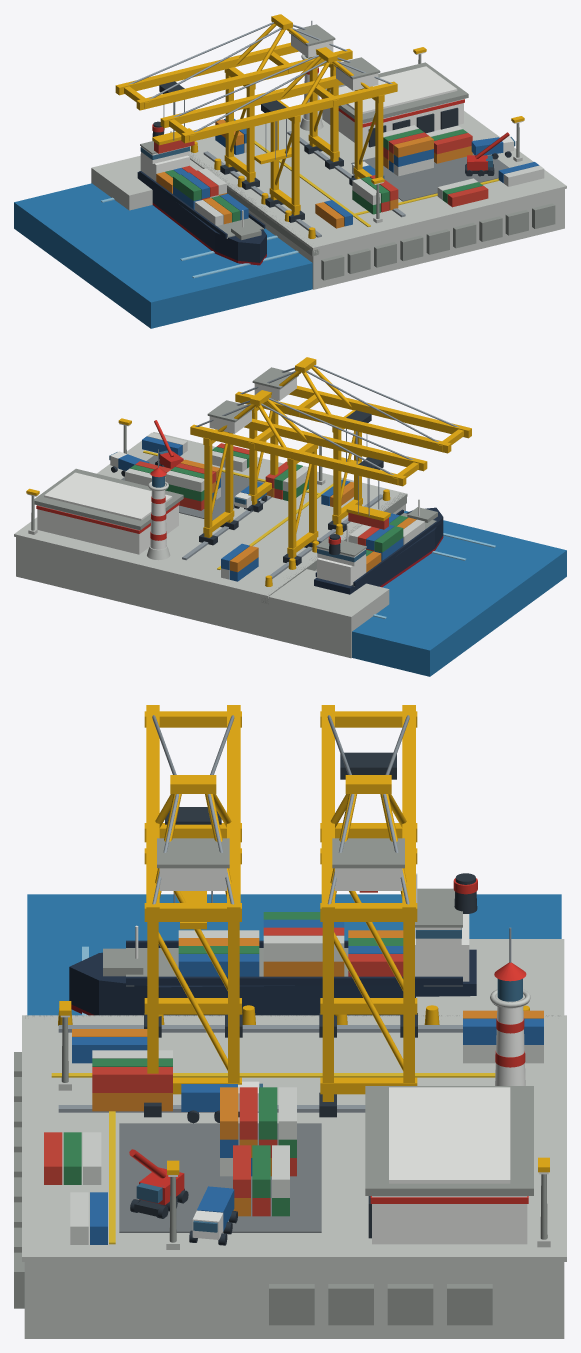
The model's file is seaport.glb.
The picture shows the model from 3 angles, top to bottom: view 1: azimuth 30°, elevation 25°; view 2: azimuth 150°, elevation 25°; view 3: azimuth 270°, elevation 25°; orthographic projection. The views are drawn at different scales.
Visible parts, largest first — view 1: water_block, quay_deck, quay_slab, hull_upper, gantry_crane_b_boom_0.3, yard_pad, quay_apron_back, warehouse_roof_ridge, gantry_crane_a_boom_0.3, gantry_crane_a_boom_-0.3, gantry_crane_b_boom_-0.3, warehouse_roof (+40 smaller); view 2: water_block, quay_deck, quay_apron_back, quay_slab, warehouse_roof_ridge, warehouse_body, gantry_crane_a_boom_-0.3, gantry_crane_b_boom_-0.3, hull_upper, warehouse_roof, gantry_crane_a_boom_0.3, gantry_crane_b_boom_0.3 (+23 smaller); view 3: quay_deck, quay_slab, water_block, yard_pad, warehouse_roof_ridge, hull_upper, warehouse_roof, warehouse_body, quay_apron_back, gantry_crane_a_boom_0.3, gantry_crane_b_boom_-0.3, gantry_crane_b_boom_0.3 (+61 smaller).
Part boxes in pixels (bbox=[...]): water_block: bbox=[14, 183, 312, 328]; quay_deck: bbox=[188, 111, 566, 250]; quay_slab: bbox=[248, 189, 564, 289]; hull_upper: bbox=[137, 172, 266, 262]; gantry_crane_b_boom_0.3: bbox=[181, 81, 397, 143]; yard_pad: bbox=[351, 153, 509, 201]; quay_apron_back: bbox=[91, 155, 202, 210]; warehouse_roof_ridge: bbox=[329, 66, 457, 113]; gantry_crane_a_boom_0.3: bbox=[136, 49, 352, 110]; gantry_crane_a_boom_-0.3: bbox=[115, 42, 298, 95]; gantry_crane_b_boom_-0.3: bbox=[160, 75, 343, 128]; warehouse_roof: bbox=[325, 62, 468, 123]; water_block: bbox=[352, 511, 566, 676]; quay_deck: bbox=[14, 432, 407, 598]; quay_apron_back: bbox=[207, 569, 389, 658]; quay_slab: bbox=[16, 504, 405, 637]; warehouse_roof_ridge: bbox=[44, 472, 172, 520]; warehouse_body: bbox=[37, 505, 178, 554]; gantry_crane_a_boom_-0.3: bbox=[190, 424, 406, 486]; gantry_crane_b_boom_-0.3: bbox=[235, 391, 451, 453]; hull_upper: bbox=[314, 507, 443, 594]; warehouse_roof: bbox=[34, 468, 183, 530]; gantry_crane_a_boom_0.3: bbox=[244, 418, 427, 471]; gantry_crane_b_boom_0.3: bbox=[289, 385, 471, 438]; quay_deck: bbox=[22, 1015, 566, 1261]; quay_slab: bbox=[24, 1262, 564, 1338]; water_block: bbox=[27, 894, 561, 1015]; yard_pad: bbox=[119, 1123, 321, 1232]; warehouse_roof_ridge: bbox=[389, 1087, 510, 1183]; hull_upper: bbox=[69, 949, 476, 1015]; warehouse_roof: bbox=[365, 1086, 533, 1195]; warehouse_body: bbox=[372, 1196, 527, 1244]; quay_apron_back: bbox=[416, 939, 564, 1015]; gantry_crane_a_boom_0.3: bbox=[321, 705, 334, 921]; gantry_crane_b_boom_-0.3: bbox=[227, 705, 240, 921]; gantry_crane_b_boom_0.3: bbox=[146, 705, 159, 921].
Size of the model in its own units: 1.01 by 0.4435 by 0.5942.
